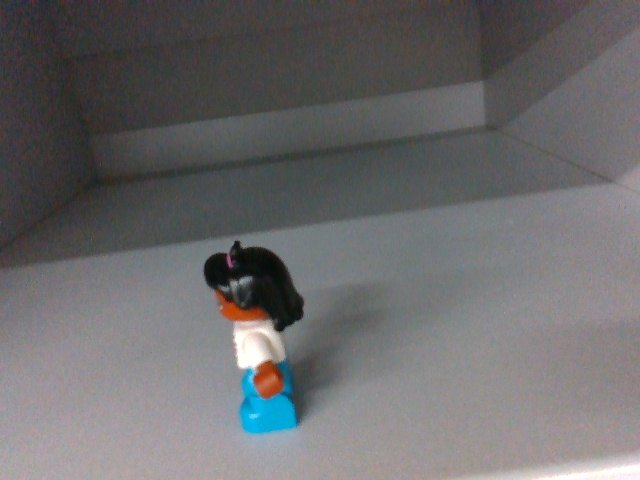people: (196, 237, 314, 438)
